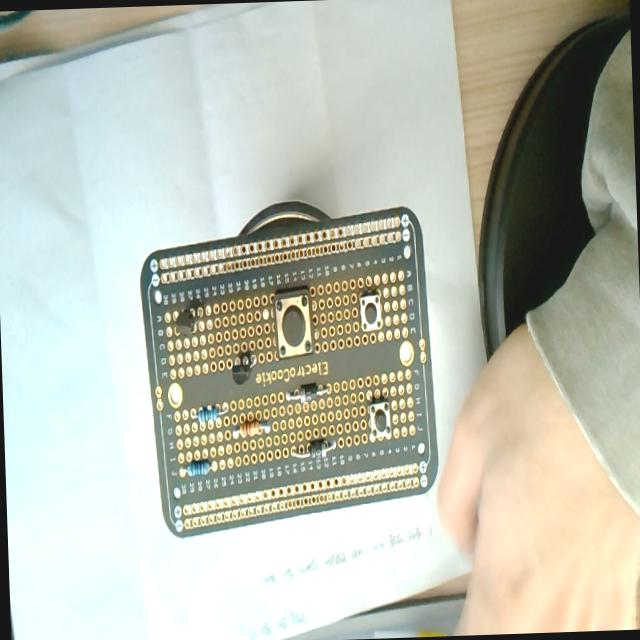diode: (290, 438, 338, 460), (286, 382, 331, 403)
resistor: (235, 418, 270, 438), (197, 404, 220, 424), (186, 459, 210, 476)
switch: (272, 288, 314, 362), (358, 290, 382, 331), (368, 400, 392, 440)
transistor: (230, 352, 258, 386), (174, 306, 202, 336)
